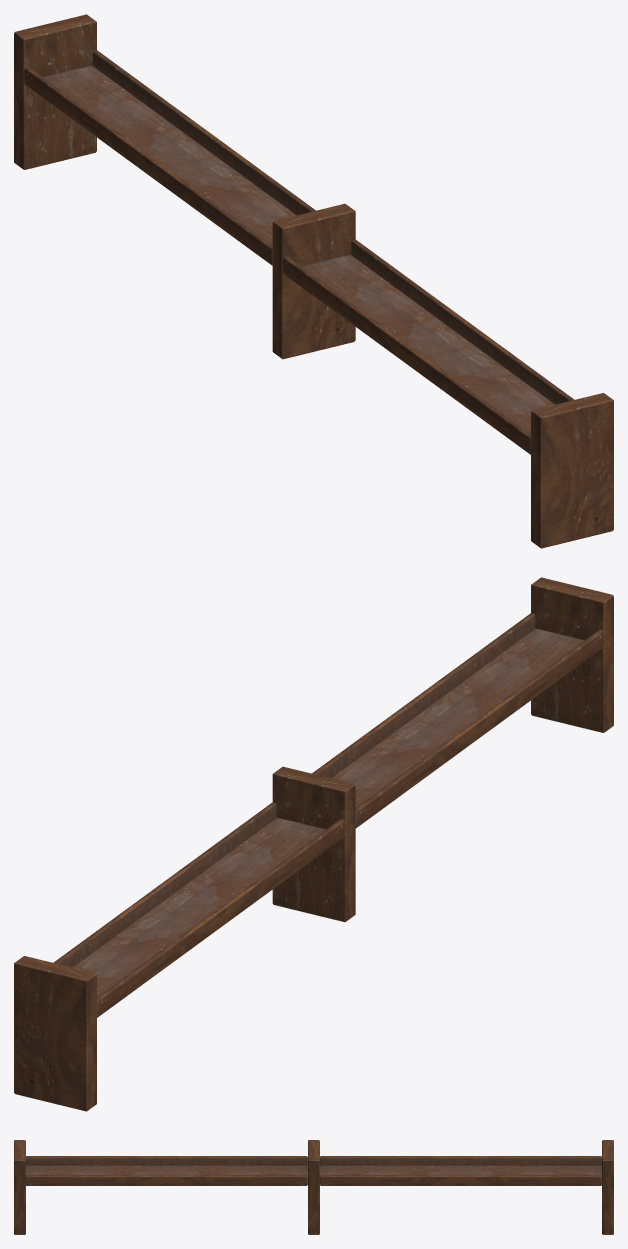
File: SM_Middle_Table_Top_Shelf.fbx
3 views of the same model, one above another, from view 1: azimuth 30°, elevation 25°; view 2: azimuth 150°, elevation 25°; view 3: azimuth 270°, elevation 25° (orthographic). The views are drawn at different scales.
Visible parts, largest first — view 1: SM_Middle_Table_Top_Shelf_LOD0; view 2: SM_Middle_Table_Top_Shelf_LOD0; view 3: SM_Middle_Table_Top_Shelf_LOD0.
Part boxes in pixels (left/top/right/bottom): SM_Middle_Table_Top_Shelf_LOD0: left=14, top=14, right=613, bottom=548; SM_Middle_Table_Top_Shelf_LOD0: left=14, top=577, right=613, bottom=1111; SM_Middle_Table_Top_Shelf_LOD0: left=14, top=1140, right=613, bottom=1234.
Bounding box in the file's own units: 37.47 × 462 × 63.76.
Materials: 1 (1 with a texture image).
